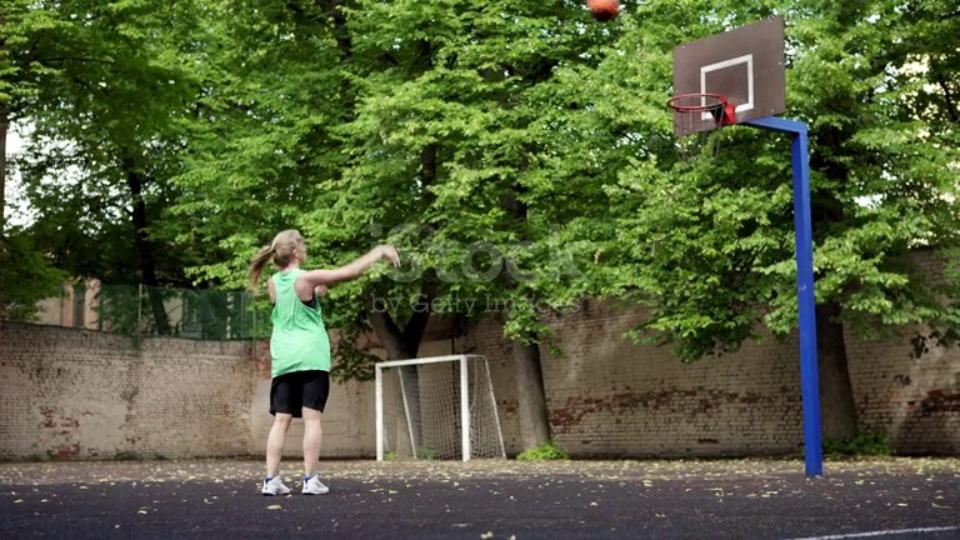hoop: (666, 92, 735, 115)
